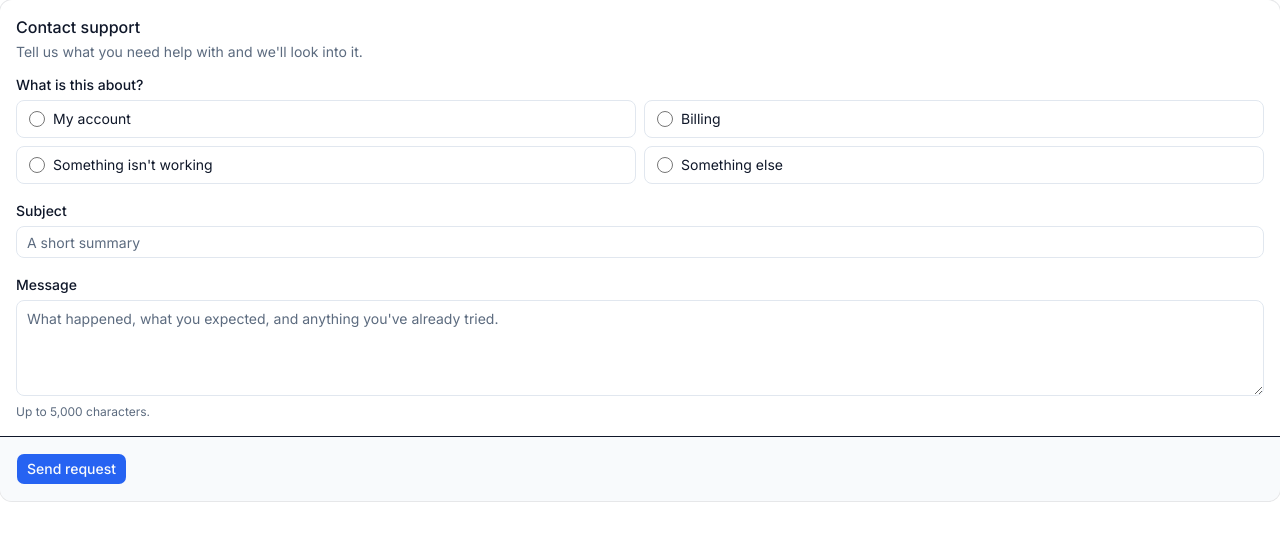
SupportRequestForm – validation errors from the server › flags the category group (not single radios) and focuses the chosen option
Click the radio button labelled "Something isn't working".
click(37, 165)  # box 29,157 -> 45,173
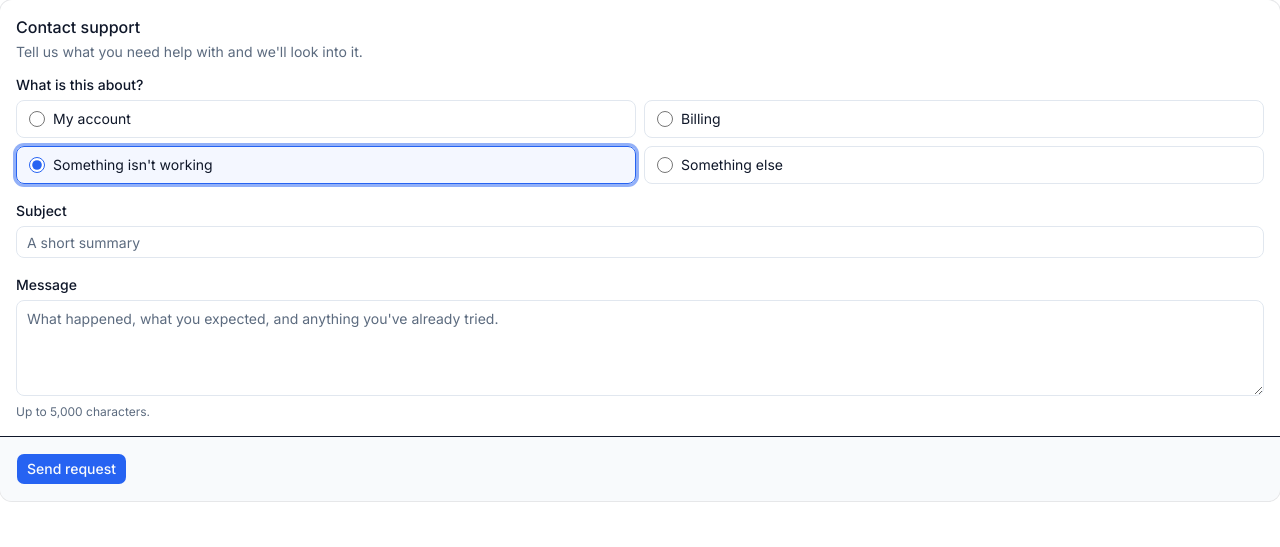
Type "Charged twice" into the field labelled "Subject".
click(640, 242); type("Charged twice")  # box 16,226 -> 1264,258
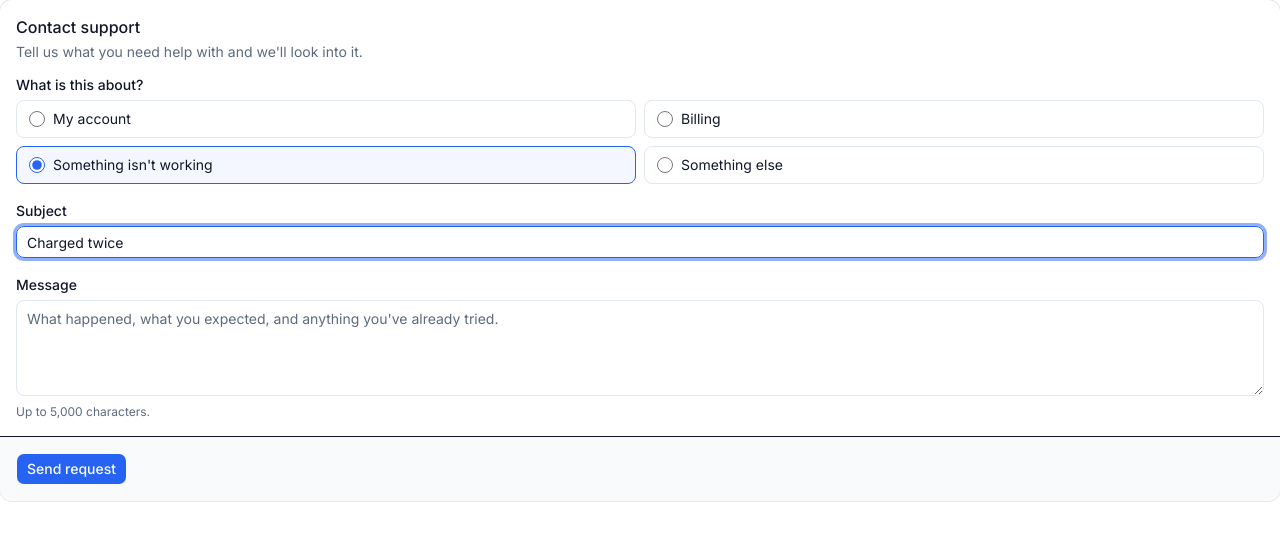
Replace the text in the text box labelled "Message" with "I see two charges." at (640, 348), box 16,300 -> 1264,396
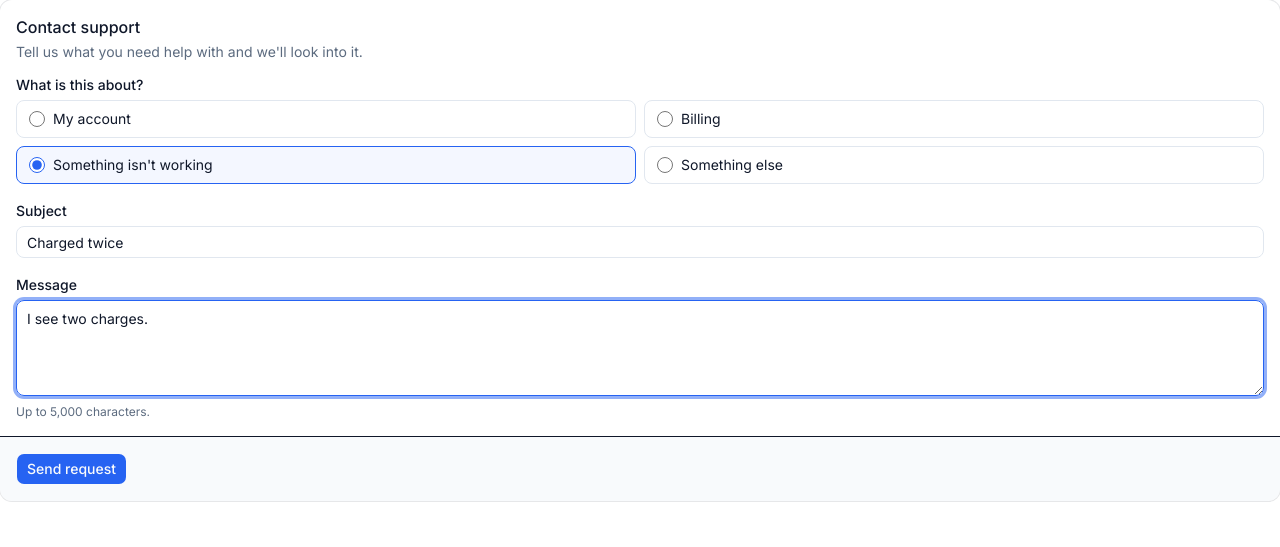
Click the button "Send request".
click(72, 469)  # box 16,453 -> 127,485
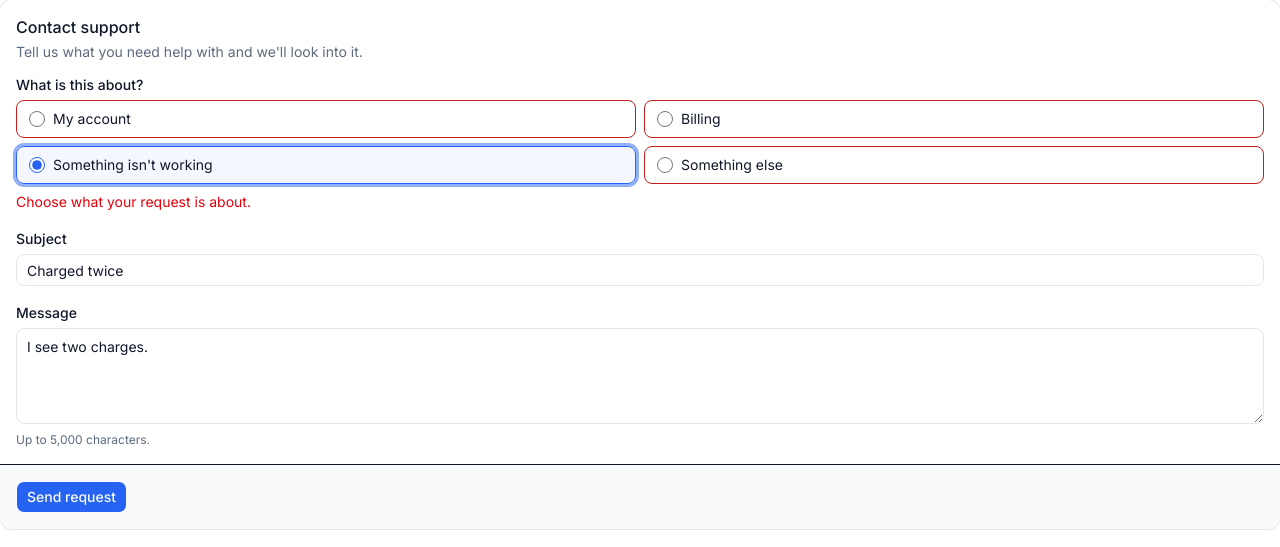
Check: the message reads "Choose what your request is about.", box 16,193 -> 251,210
